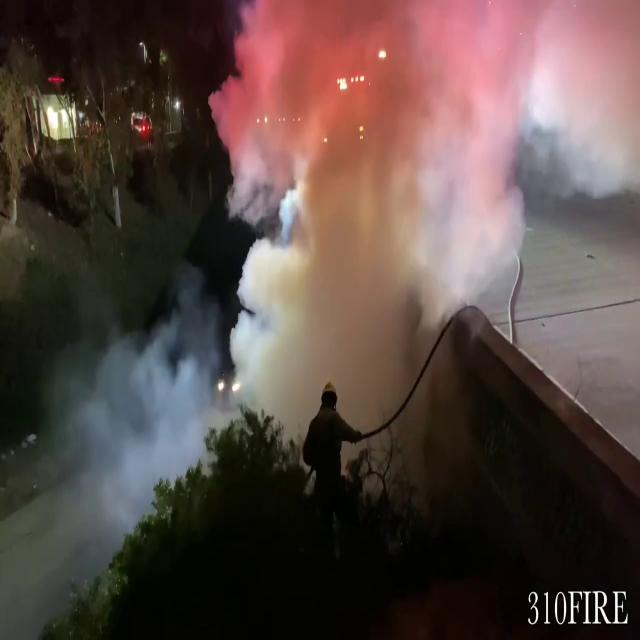Smoke: (218, 0, 548, 472), (42, 261, 230, 570)
